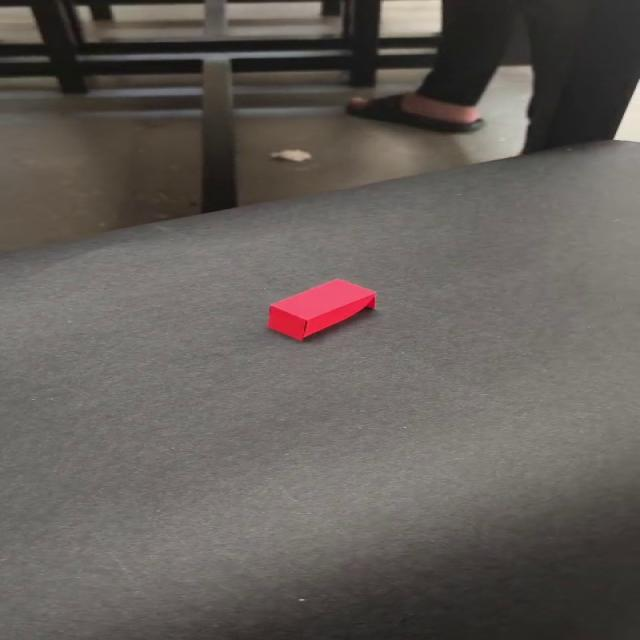red block: (265, 277, 376, 341)
